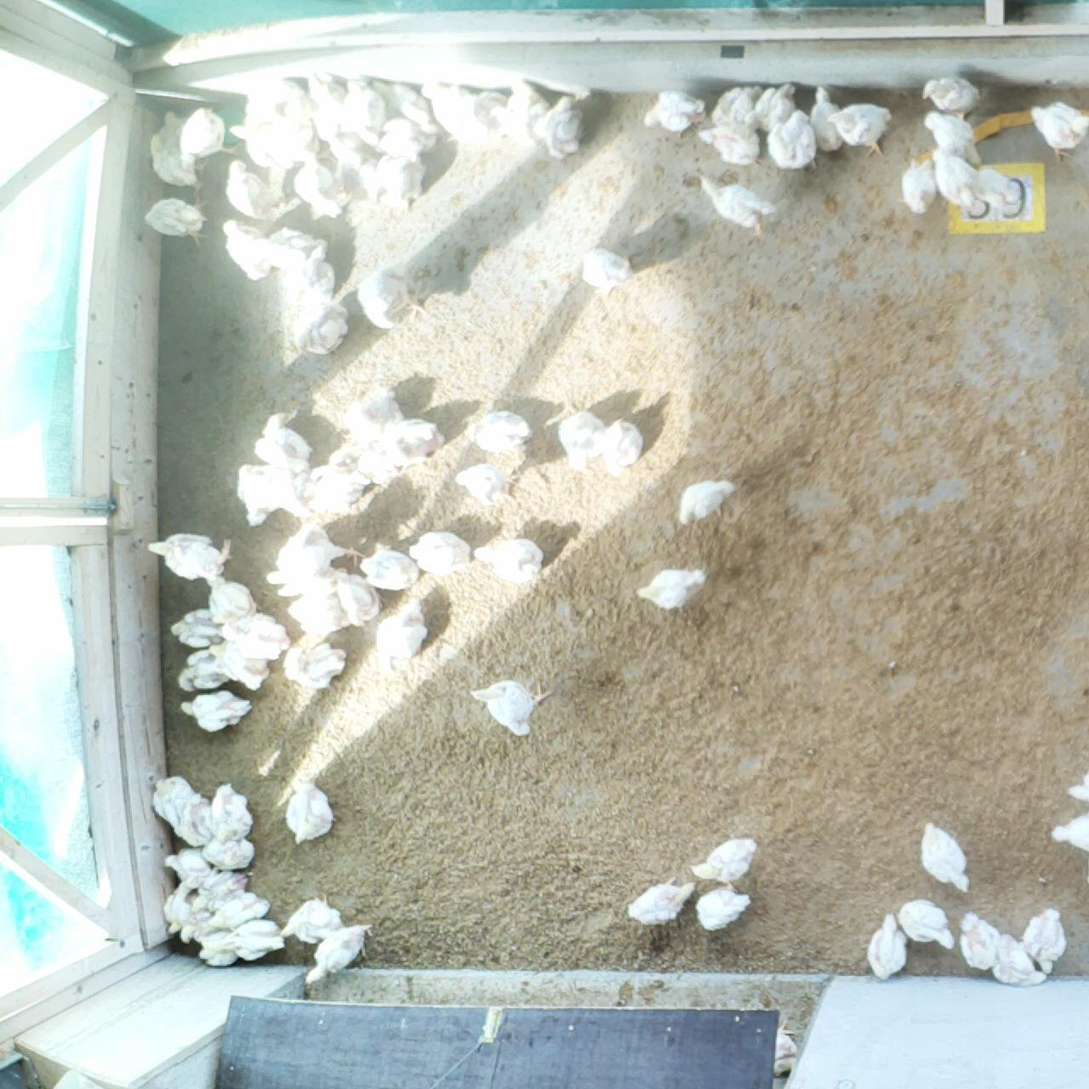chicken: (265, 520, 368, 588), (696, 170, 780, 241), (468, 675, 555, 740), (352, 261, 428, 332), (145, 529, 235, 586), (420, 75, 491, 147), (303, 921, 376, 987), (278, 236, 338, 316), (373, 594, 430, 677), (1025, 97, 1089, 168), (917, 820, 974, 897), (139, 194, 216, 250), (177, 104, 244, 168), (918, 105, 985, 169), (826, 100, 896, 161), (626, 873, 699, 931), (491, 74, 549, 147), (223, 121, 314, 167), (458, 406, 537, 458), (250, 409, 314, 473), (641, 84, 709, 144), (295, 147, 349, 222), (283, 775, 337, 849), (220, 609, 294, 662), (301, 461, 372, 516), (688, 832, 759, 887), (291, 298, 352, 362), (764, 107, 822, 174), (929, 144, 985, 213), (248, 224, 332, 270), (472, 533, 546, 585), (894, 895, 959, 954), (277, 892, 348, 946), (223, 157, 284, 219), (219, 216, 275, 283), (207, 636, 274, 692), (177, 688, 255, 736), (343, 382, 402, 445), (633, 564, 710, 612), (281, 640, 351, 692), (554, 406, 608, 473), (987, 931, 1048, 990), (1020, 904, 1069, 977), (452, 459, 526, 507), (539, 93, 592, 160), (338, 76, 387, 147), (147, 132, 204, 193), (577, 243, 639, 299), (917, 73, 989, 121), (239, 76, 314, 122), (253, 461, 311, 520), (674, 477, 738, 530), (691, 880, 754, 933), (864, 910, 911, 981), (358, 540, 420, 593), (333, 565, 385, 628), (207, 779, 255, 847), (405, 529, 473, 577), (376, 154, 427, 217), (695, 120, 763, 167), (382, 415, 450, 462), (372, 75, 433, 127), (287, 591, 354, 638), (218, 915, 286, 961), (956, 907, 1002, 975), (275, 560, 351, 601), (896, 151, 940, 221), (745, 78, 799, 133), (807, 81, 847, 154), (712, 81, 764, 137), (202, 575, 259, 626), (168, 604, 228, 652), (375, 117, 440, 161), (175, 647, 231, 697), (150, 771, 198, 829), (191, 866, 250, 913), (305, 67, 349, 130), (236, 460, 274, 529), (603, 418, 646, 478), (208, 891, 272, 930), (174, 791, 216, 850), (199, 834, 257, 873), (322, 116, 367, 166), (161, 877, 198, 936), (356, 445, 405, 489), (161, 843, 217, 881), (972, 164, 1018, 208), (1046, 808, 1089, 854), (177, 907, 225, 946), (196, 928, 240, 970), (353, 150, 385, 207), (154, 107, 191, 153), (327, 440, 367, 473)
